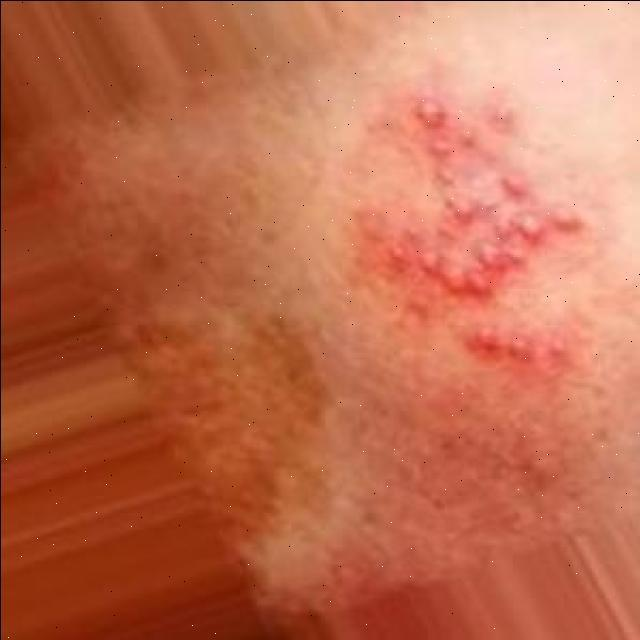Shingles: (386, 82, 584, 370)
